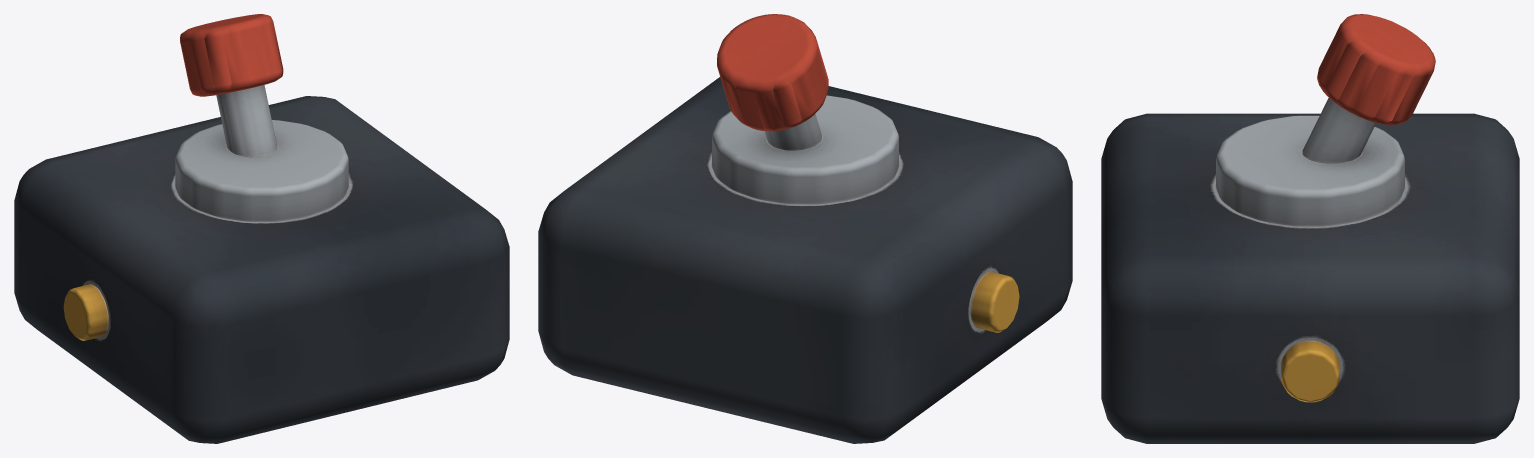
File: switch_box-v001.glb
3 renders of one model, left to right at view 1: azimuth 30°, elevation 25°; view 2: azimuth 150°, elevation 25°; view 3: azimuth 270°, elevation 25°, orthographic. The views are drawn at different scales.
Parts seen in each view (by area): view 1: SwitchBox; view 2: SwitchBox; view 3: SwitchBox.
Boxes of the visible parts, box(x1,y1,x2,y2) form: SwitchBox: box(14, 14, 509, 443); SwitchBox: box(538, 14, 1072, 443); SwitchBox: box(1101, 14, 1519, 443).
Size of the model in its own units: 0.37 by 0.3022 by 0.33.
1 material, 1 textured.
